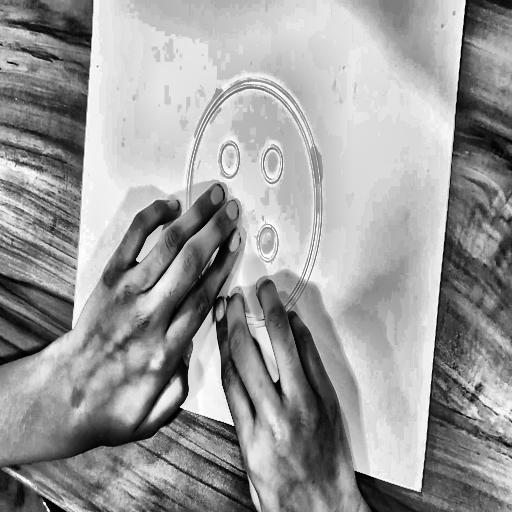bottom_left: (70, 354, 77, 366)
bottom_right: (416, 482, 425, 498)
button: (168, 58, 340, 356)
